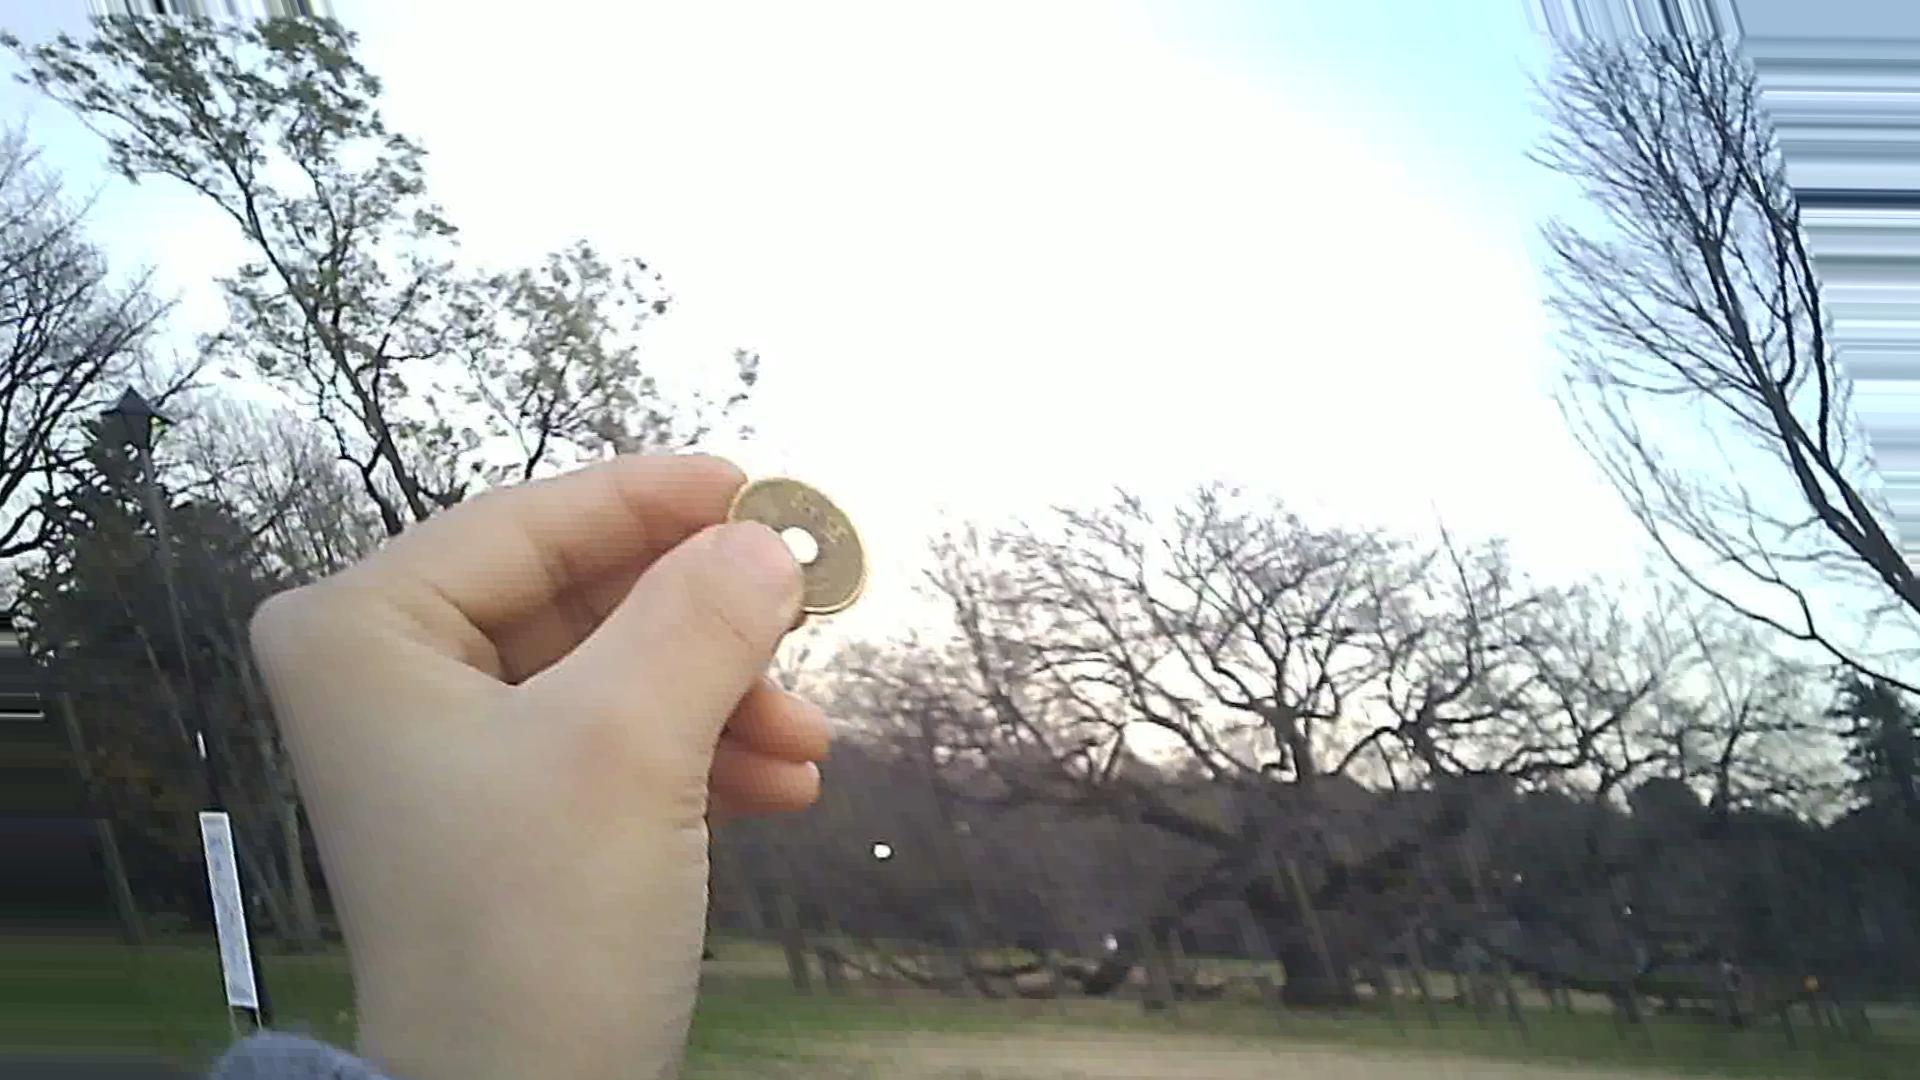5 Yen: (709, 454, 880, 637)
